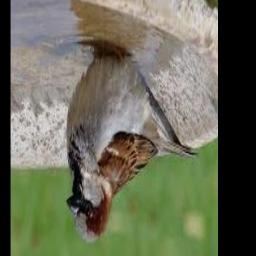Sparrow: (66, 50, 198, 244)
